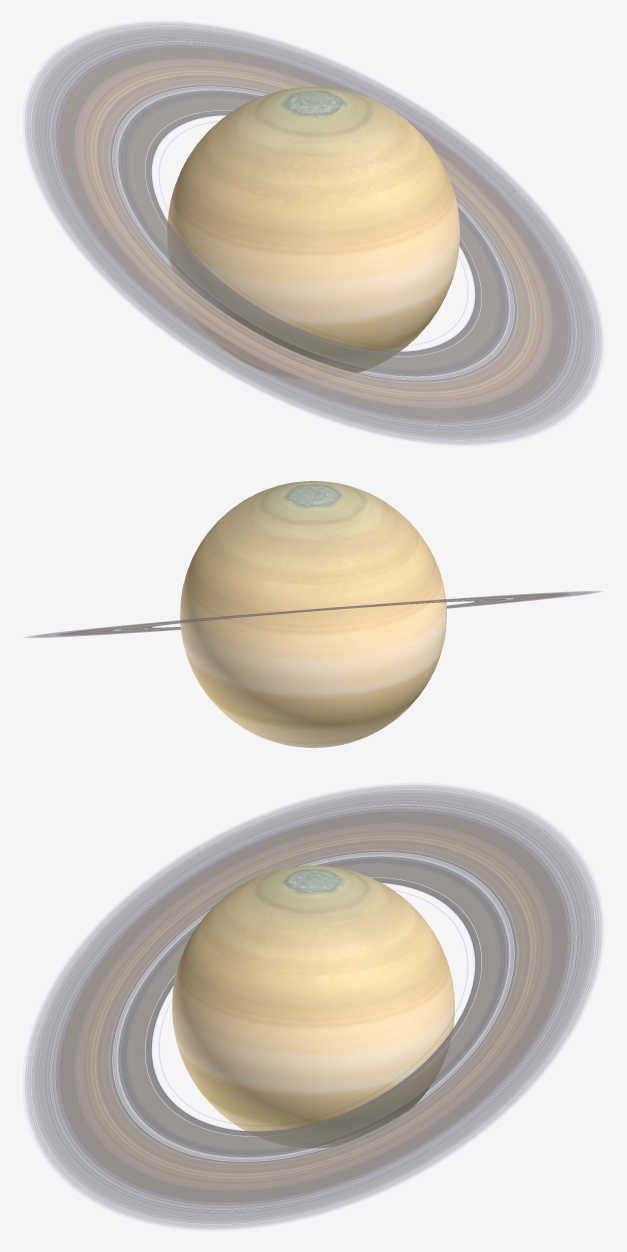
The model's file is Saturn.glb.
3 views of the same model, one above another, from view 1: azimuth 30°, elevation 25°; view 2: azimuth 150°, elevation 25°; view 3: azimuth 270°, elevation 25° (orthographic). The views are drawn at different scales.
Visible parts, largest first — view 1: Saturn_Ring, Saturn; view 2: Saturn, Saturn_Ring; view 3: Saturn_Ring, Saturn.
Boxes of the visible parts, x1,y1,x2,y2 form: Saturn_Ring: (25,22,601,444); Saturn: (167,87,459,378); Saturn: (180,481,446,747); Saturn_Ring: (26,591,600,637); Saturn_Ring: (25,785,601,1228); Saturn: (172,865,454,1148).
Bounding box in the file's own units: 7.76 × 3.61 × 7.62.
2 materials, 2 textured.
